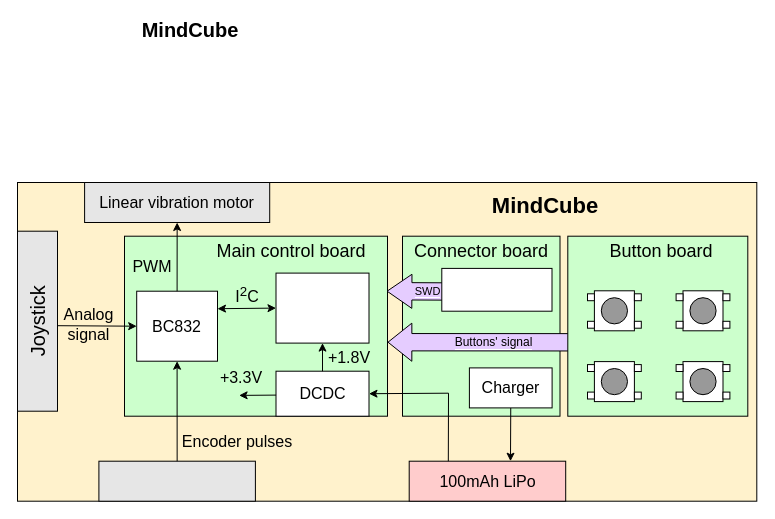
This 775x519 diagram has some shape labels left out. Here are the shapes that lost their labels. From the top down, the centre of each, then its label:
point (322, 307): ICM20948
point (496, 289): Programming port
point (176, 480): TTC Encoder
